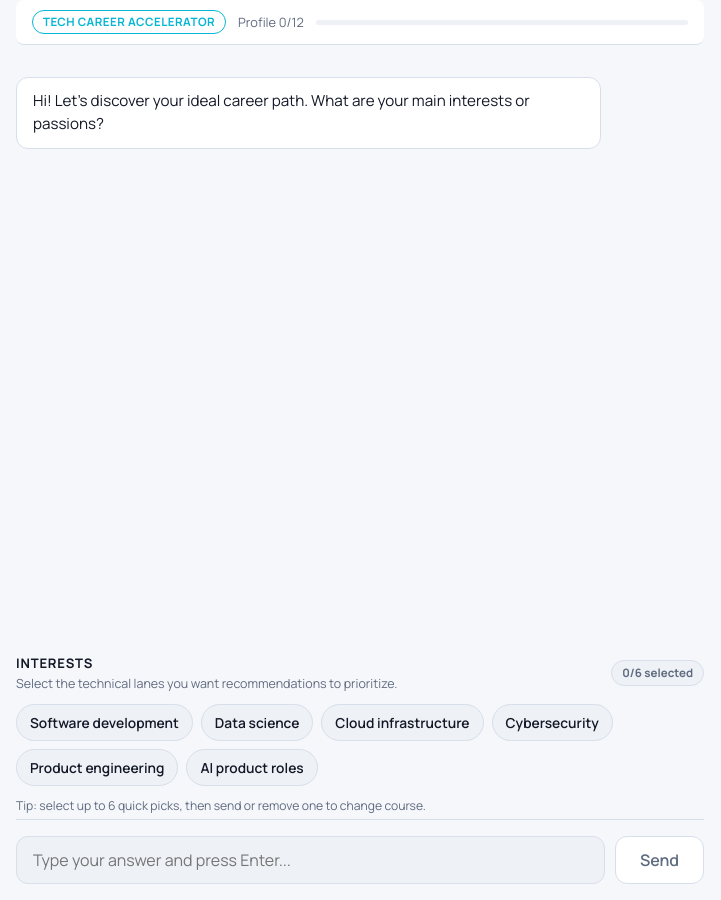
Onboarding › blocks very short answers and shows inline guidance
In the field with placeholder "Type your answer and press Enter...": (310, 860) [16,836,605,884], type "ok"
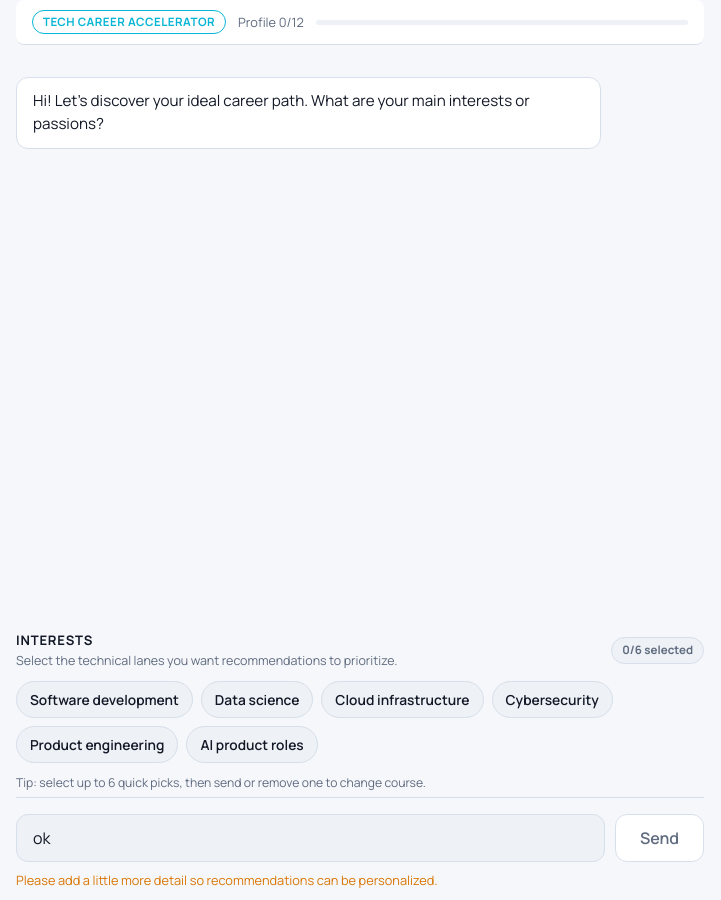
Expected: the button "Send" is disabled, [615,814,704,862]
Expected: the text "Please add a little more detail" is shown, [16,870,438,888]
